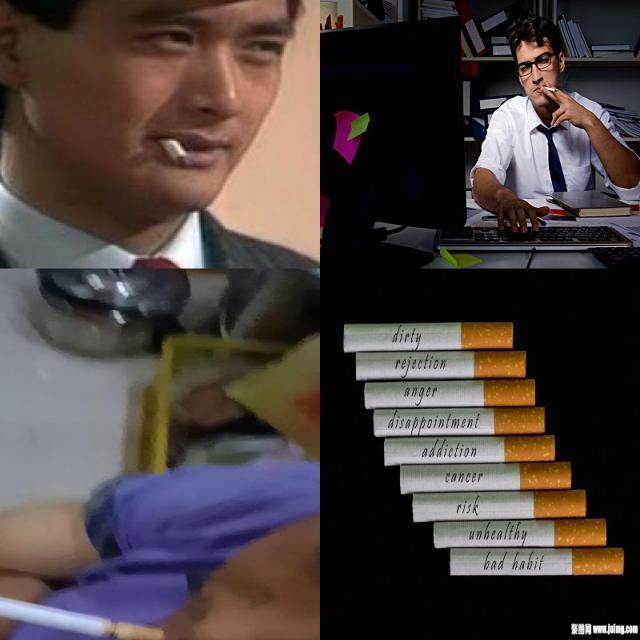smoke: (0, 584, 170, 640), (412, 490, 586, 522), (399, 462, 572, 494), (364, 378, 536, 410), (384, 434, 555, 466), (432, 518, 608, 548), (373, 407, 545, 437), (343, 323, 514, 353), (450, 548, 624, 576), (355, 352, 527, 380), (150, 134, 201, 170), (541, 85, 558, 93)
